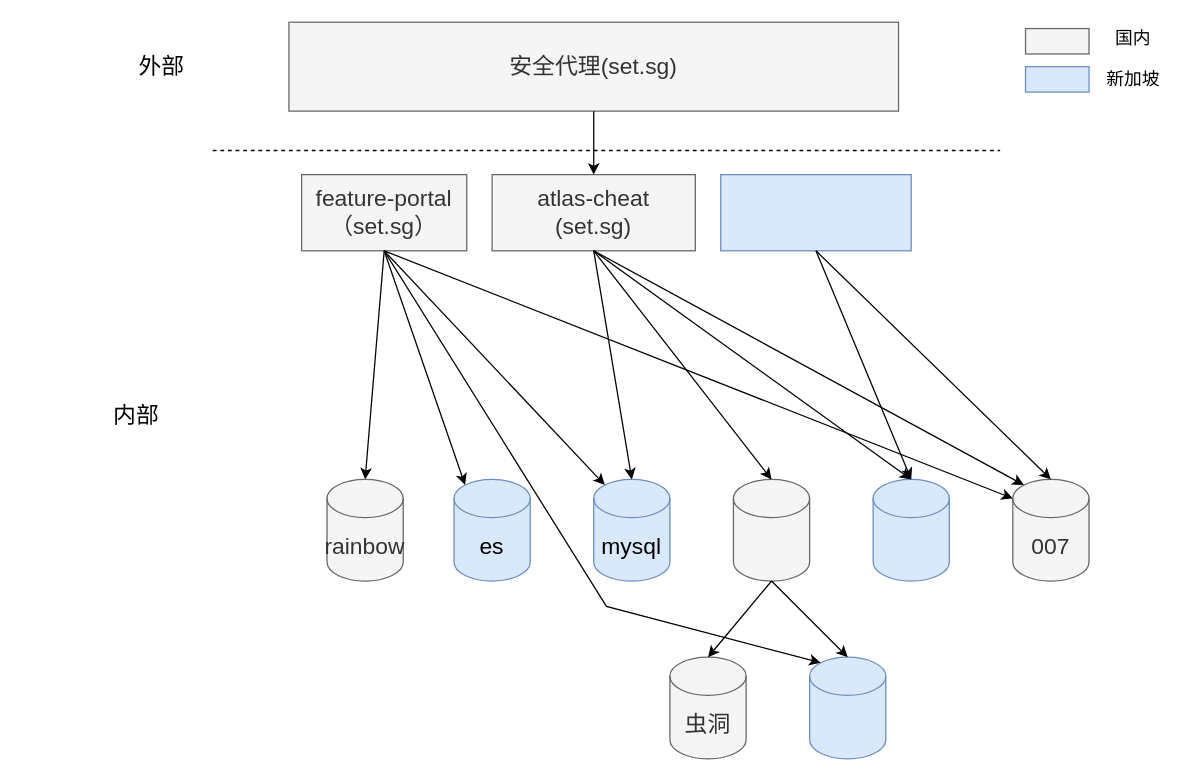
This 1186x781 diagram has some shape labels left out. The box of each missing label's shape, as (x1, y1, x2, y2) in pixels:
atta: (732, 478, 810, 581)
cls: (808, 656, 886, 759)
flink: (719, 173, 911, 251)
redis: (872, 478, 949, 581)
